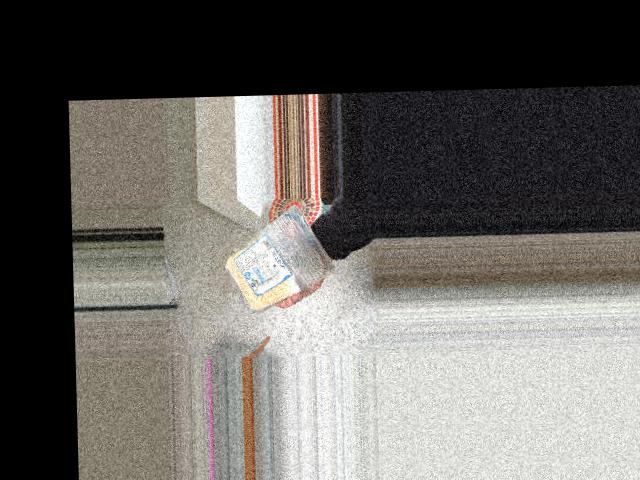cheese: (220, 214, 324, 305)
